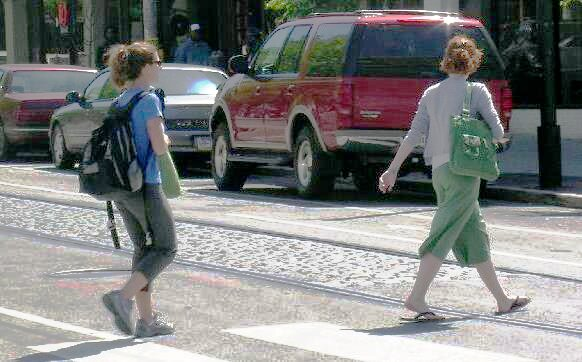person: (381, 36, 532, 323), (84, 40, 188, 337)
